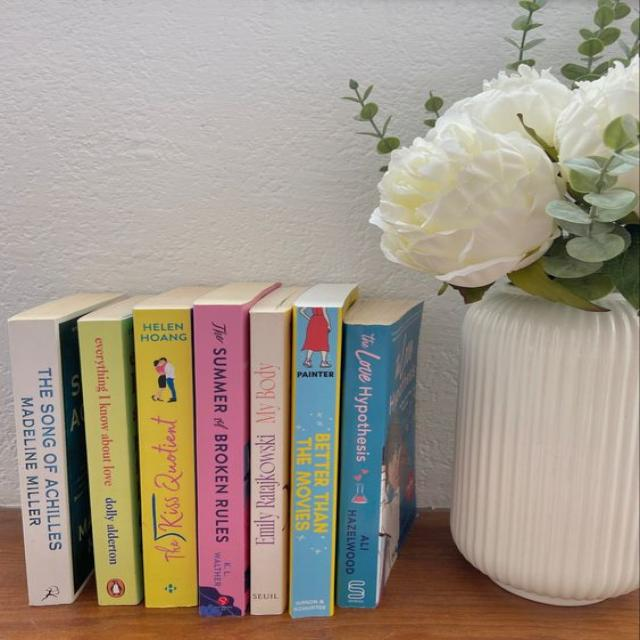book: (9, 319, 77, 607), (135, 310, 197, 607), (78, 318, 139, 603), (291, 308, 343, 619), (196, 304, 242, 612), (339, 327, 386, 604), (251, 313, 286, 615)
flowers: (344, 0, 639, 605)
